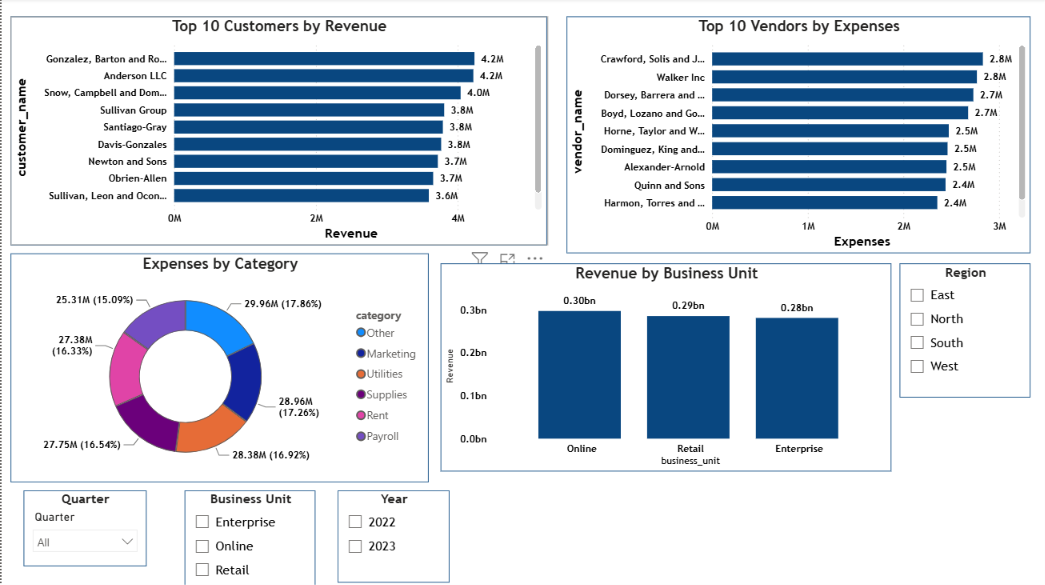

The dashboard page shown, as its layout file describes it:
{"tool":"powerbi","page":{"name":"Customers & Vendors","canvas":[1280,720],"ordinal":2},"visuals":[{"type":"barChart","title":"Top 10 Customers by Revenue","fields":{"Category":["capstone_project customers.customer_name"],"Y":["capstone_project financial_transactions.Revenue"]},"box":[11.4,21.4,655.7,280],"z":0},{"type":"barChart","title":"Top 10 Vendors by Expenses","fields":{"Category":["capstone_project vendors.vendor_name"],"Y":["capstone_project financial_transactions.Expenses"]},"box":[690.9,22,567.4,289.8],"z":1000},{"type":"donutChart","title":"Expenses by Category","fields":{"Category":["capstone_project financial_transactions.category"],"Y":["capstone_project financial_transactions.Expenses"]},"box":[11.4,311.4,511.4,280],"z":2000},{"type":"slicer","title":"Business Unit","fields":{"Values":["Dim_Business_Unit.business_unit"]},"box":[224.3,601.4,160.2,118.6],"z":3000},{"type":"slicer","title":"Region","fields":{"Values":["Dim_Region.region"]},"box":[1098.6,324.3,160.2,163.9],"z":4000},{"type":"slicer","title":"Quarter","fields":{"Values":["Calender.Quarter"]},"box":[27.1,601.4,150,92.9],"z":5000},{"type":"slicer","title":"Year","fields":{"Values":["Calender.Year"]},"box":[411.4,601.4,137.1,112.9],"z":6000},{"type":"columnChart","title":"Revenue by Business Unit","fields":{"Category":["capstone_project financial_transactions.business_unit"],"Y":["capstone_project financial_transactions.Revenue"]},"box":[537.1,324.3,551.4,254.3],"z":7000}]}

Visuals, with their boxes in screenshot pixels (x1, y1, x2, y2), scaled from the page's 1280x720 canvas onto the 1045x585 screenshot:
"Top 10 Customers by Revenue" barChart: region(9, 17, 545, 245)
"Top 10 Vendors by Expenses" barChart: region(564, 18, 1027, 253)
"Expenses by Category" donutChart: region(9, 253, 427, 481)
"Business Unit" slicer: region(183, 489, 314, 584)
"Region" slicer: region(897, 263, 1028, 397)
"Quarter" slicer: region(22, 489, 145, 564)
"Year" slicer: region(336, 489, 448, 580)
"Revenue by Business Unit" columnChart: region(438, 263, 889, 470)
